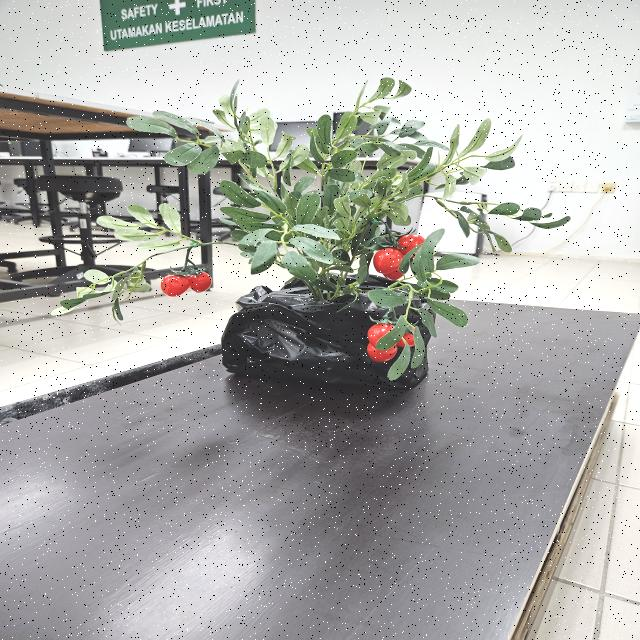Tomato: (373, 234, 427, 279), (367, 320, 419, 364), (166, 272, 212, 296)
plant: (58, 78, 554, 389)
